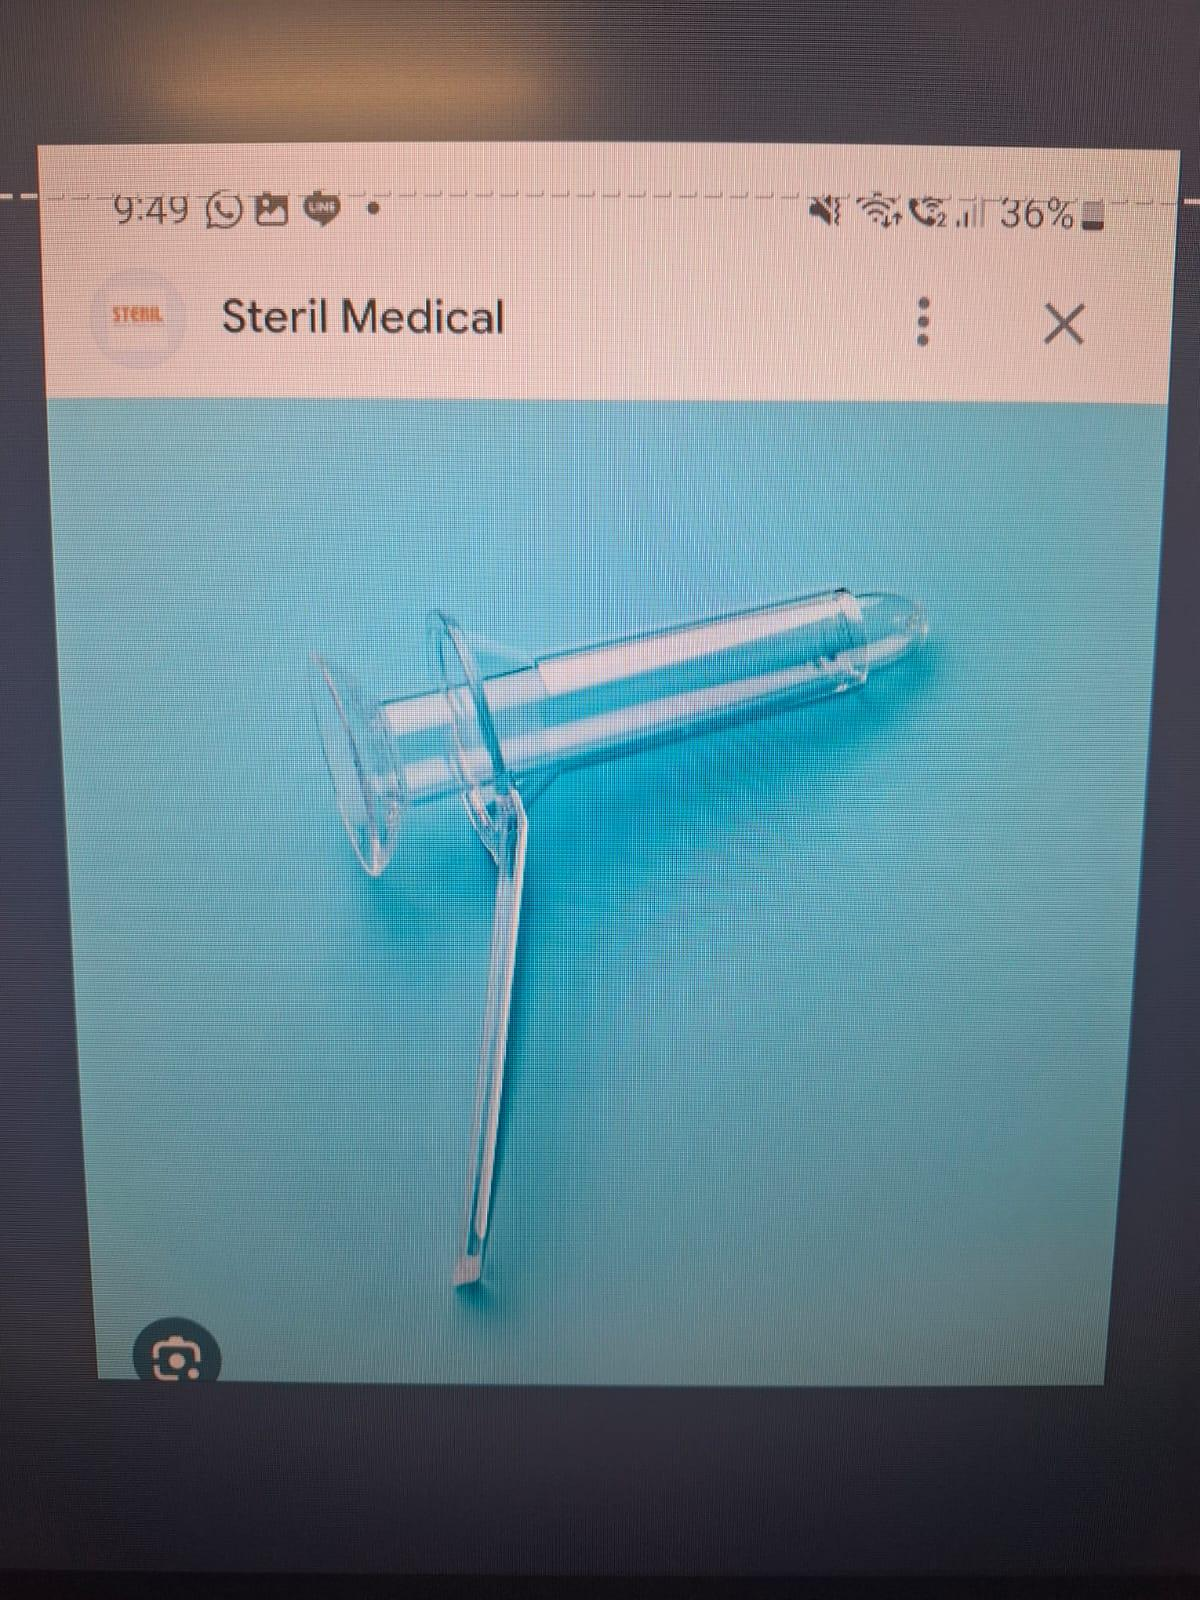Protoscope: (285, 577, 935, 1320)
